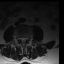CCS_normal: (22, 34, 24, 45)
LFS_normal: (26, 34, 29, 42)
LLS_normal: (24, 34, 26, 43)
RFS_normal: (17, 34, 19, 42)
RLS_normal: (19, 34, 22, 42)
